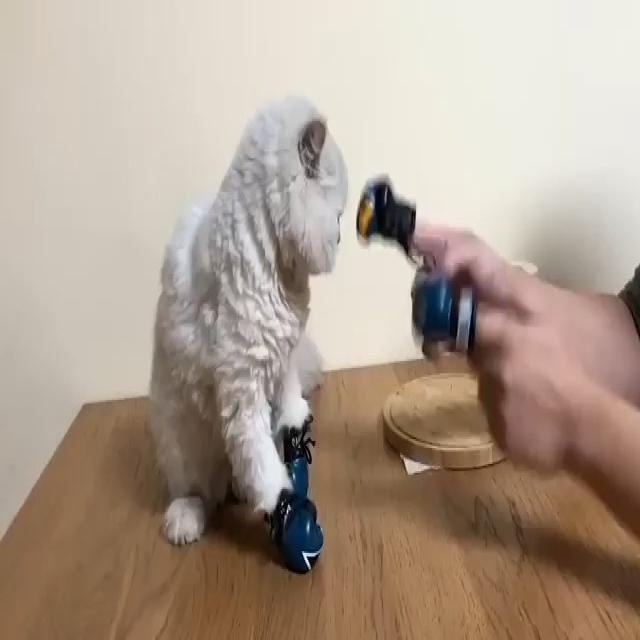cat: (94, 92, 362, 592)
